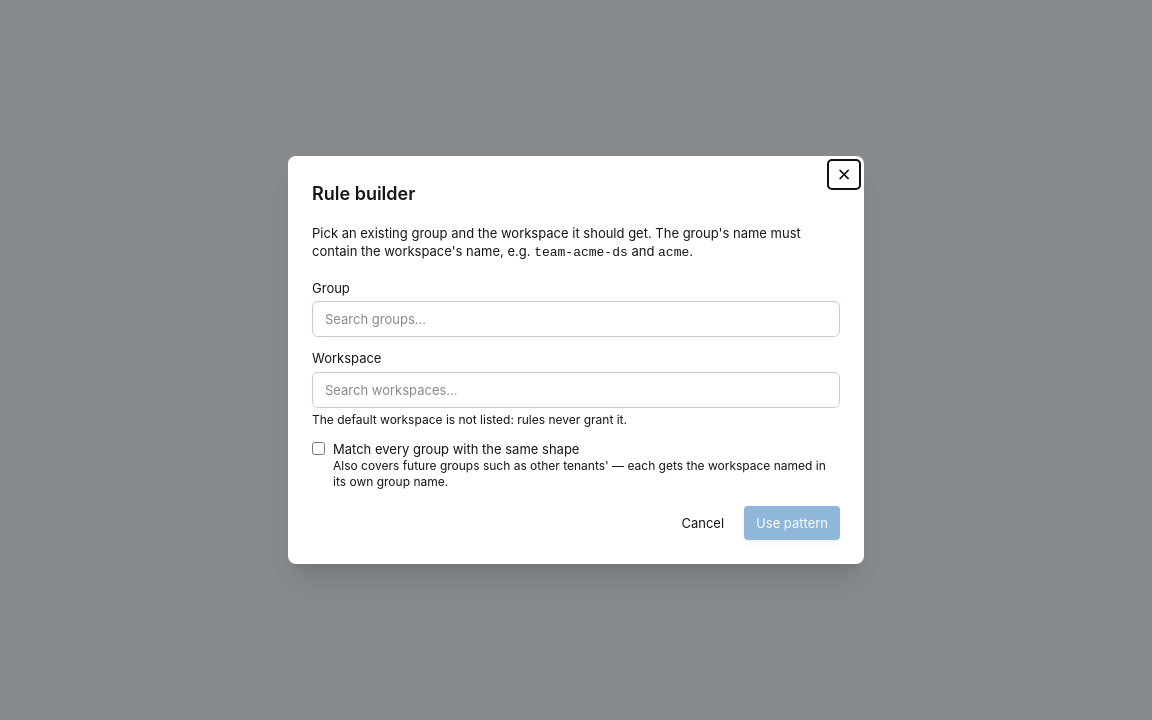
RuleBuilderModal › explains, and offers nothing, when the group name lacks the workspace
Type "data" into the dropdown labelled "Group" at (576, 319), box [312, 301, 840, 337]
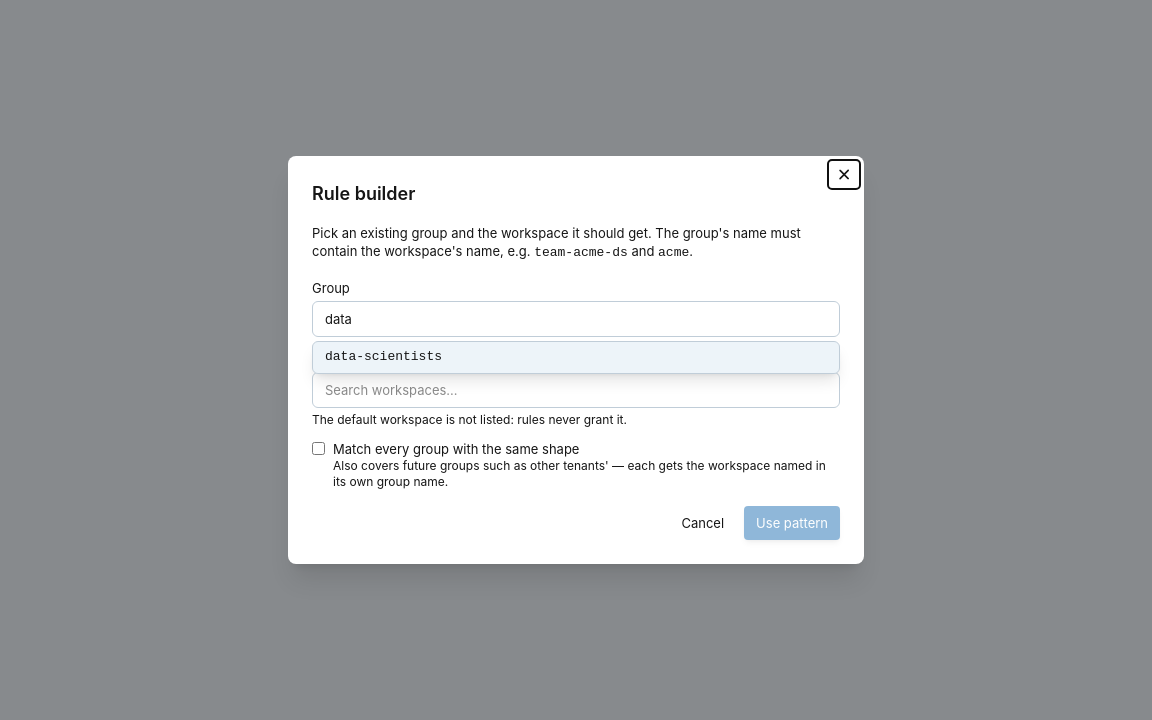
Press the mouse on the option "data-scientists" at (384, 357), box [313, 342, 839, 373]
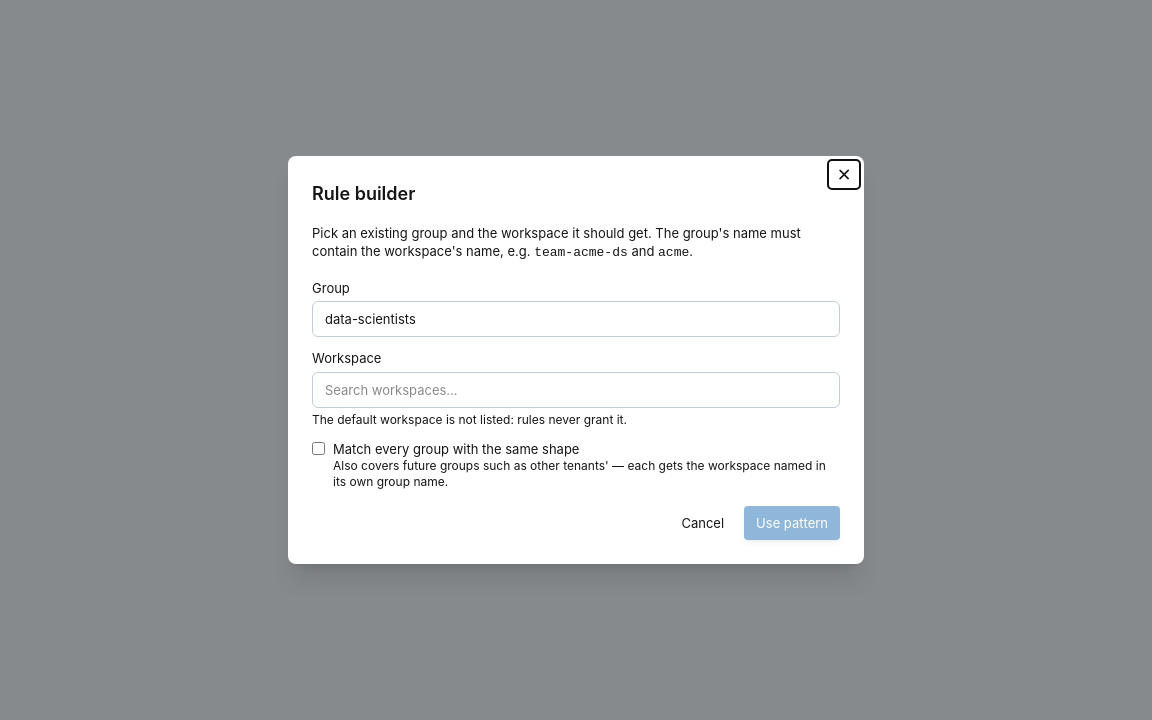
Type "ac" into the dropdown labelled "Workspace" at (576, 390), box [312, 372, 840, 408]
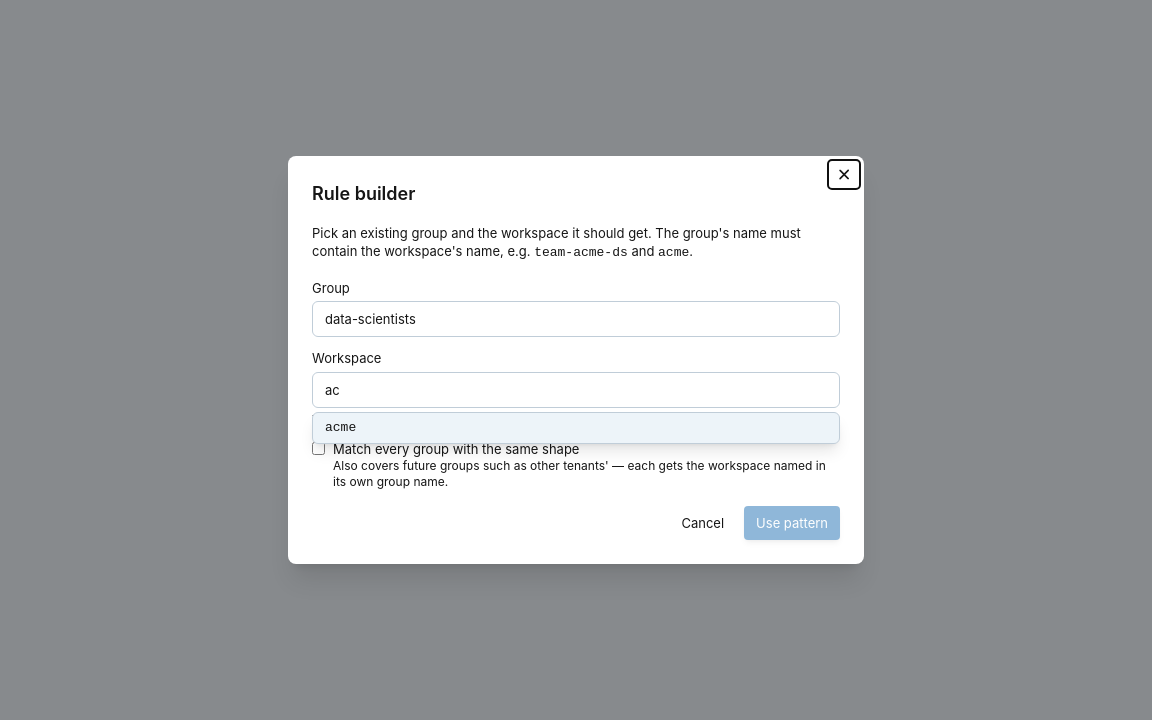
Press the mouse on the option "acme" at (341, 427), box [313, 413, 839, 443]
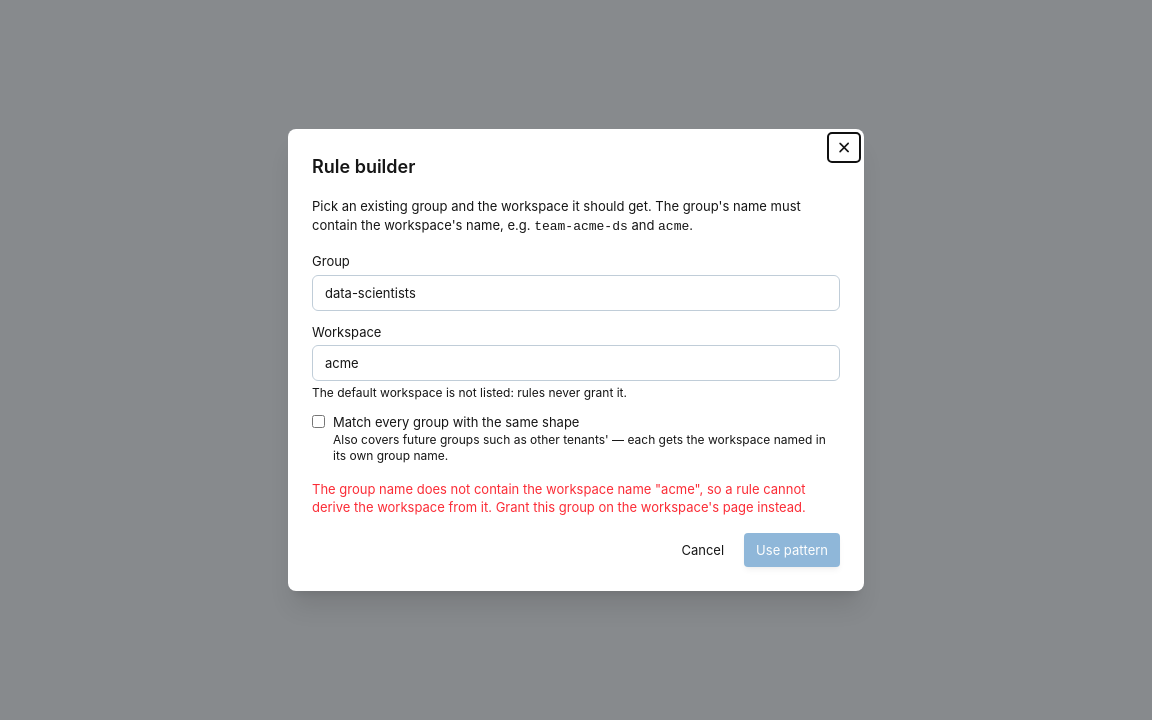
Expected: the button "Use pattern" is disabled, [744, 533, 840, 567]
Now the message shows "does not contain the workspace name", box [312, 481, 806, 515]
